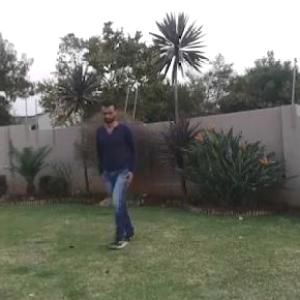follow: (99, 96, 138, 231)
